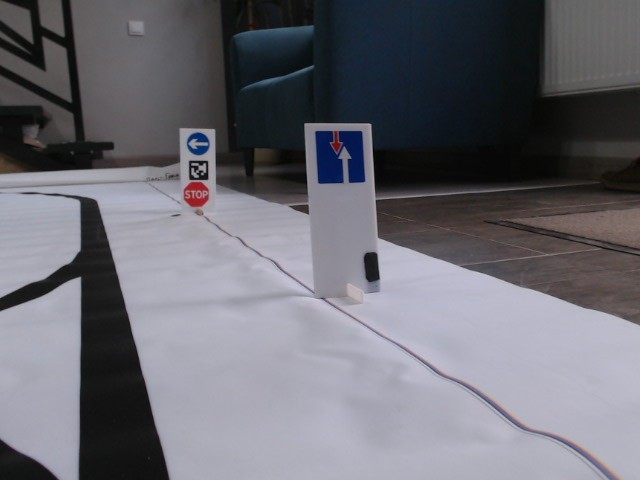Stop: (182, 181, 210, 207)
priority_movement: (315, 129, 366, 184)
